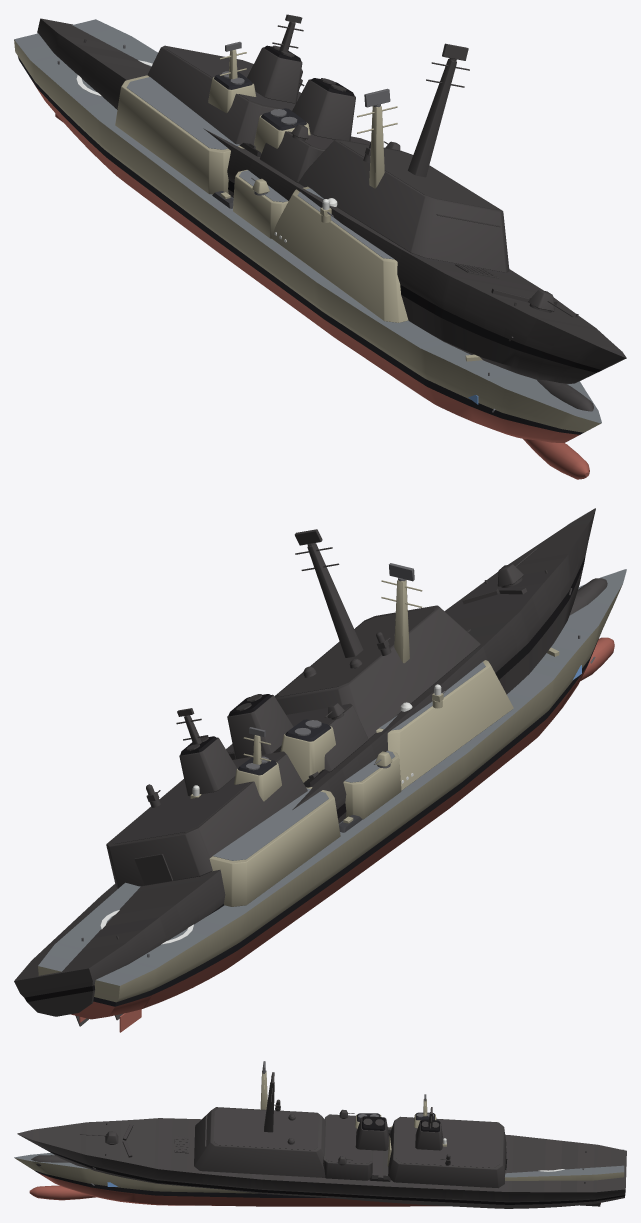
The model's file is asFrigate__type_26_uk.glb.
3 views of the same model, one above another, from view 1: azimuth 30°, elevation 25°; view 2: azimuth 150°, elevation 25°; view 3: azimuth 270°, elevation 25° (orthographic). The views are drawn at different scales.
Visible parts, largest first — view 1: Hull_Mesh, Wreck; view 2: Wreck, Hull_Mesh; view 3: Wreck, Hull_Mesh.
Part boxes in pixels (left/top/right/bottom): Hull_Mesh: left=14, top=19, right=601, bottom=479; Wreck: left=37, top=14, right=626, bottom=411; Wreck: left=14, top=508, right=607, bottom=1026; Hull_Mesh: left=38, top=569, right=626, bottom=1032; Wreck: left=17, top=1072, right=626, bottom=1208; Hull_Mesh: left=14, top=1071, right=624, bottom=1206.
Size of what is drawn, in the model's own units: 26.81 by 42.33 by 157.
